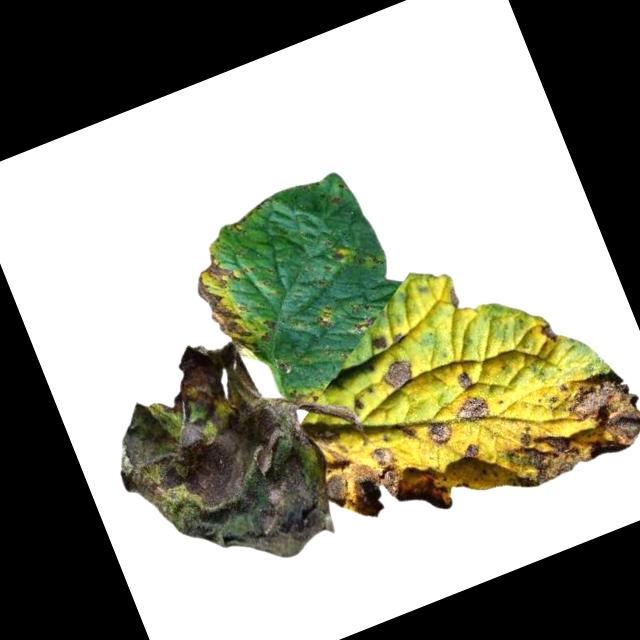Early_blight: (85, 314, 358, 605), (483, 357, 640, 495), (315, 422, 453, 549), (186, 247, 266, 363), (449, 388, 494, 428), (379, 354, 419, 395), (423, 415, 456, 447), (538, 320, 561, 346), (365, 331, 391, 353), (453, 368, 476, 392), (461, 439, 482, 461), (327, 244, 348, 263)
